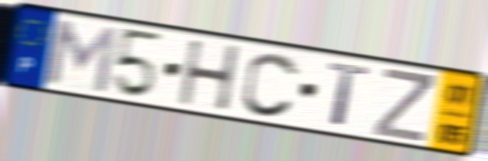5: (108, 27, 167, 100)
C: (239, 50, 302, 121)
H: (177, 38, 243, 114)
M: (44, 15, 121, 96)
T: (327, 59, 373, 130)
Z: (370, 65, 436, 145)
